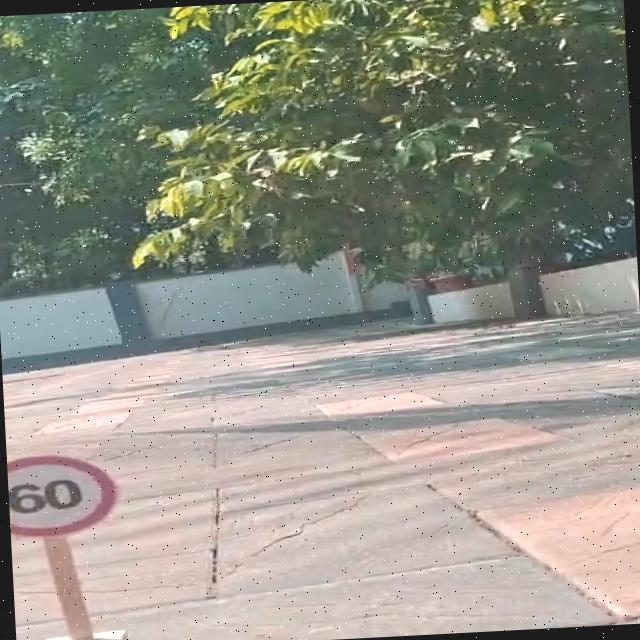Speed60: (7, 442, 146, 548)
